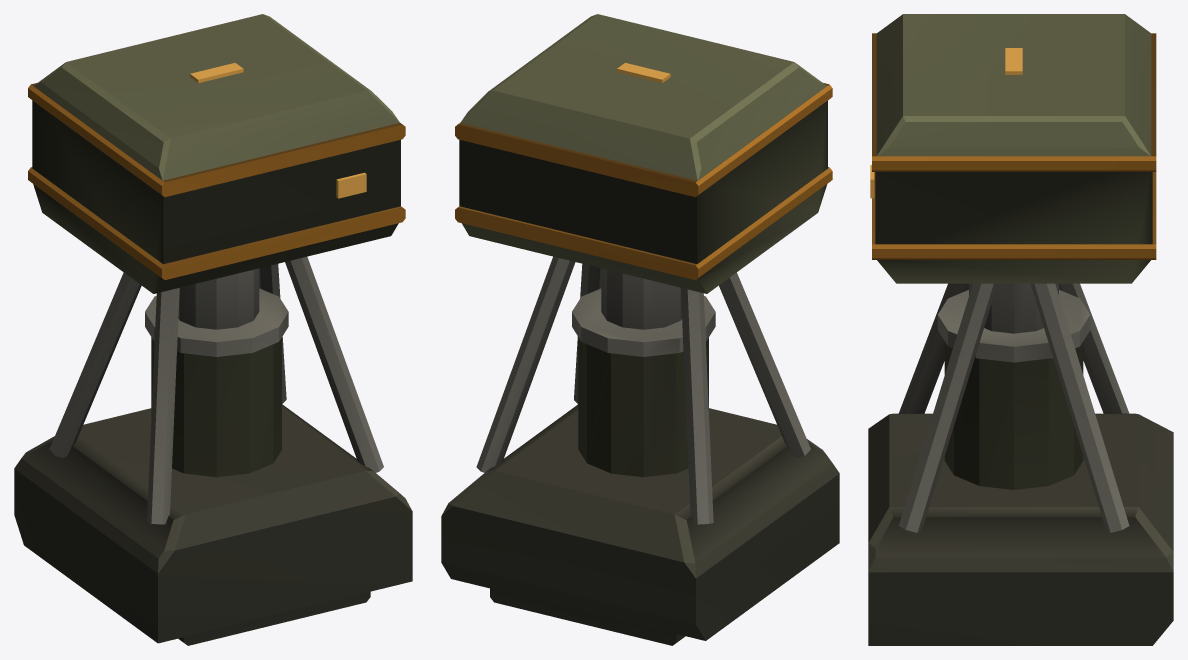
The model's file is sh-quake.glb.
The picture shows the model from 3 angles, left to right: view 1: azimuth 30°, elevation 25°; view 2: azimuth 150°, elevation 25°; view 3: azimuth 270°, elevation 25°; orthographic projection. The views are drawn at different scales.
Parts seen in each view (by area): view 1: Body, Glow; view 2: Body, Glow; view 3: Body, Glow.
Boxes of the visible parts, x1=… form: Body: x1=14, y1=14, x2=412, y2=645; Glow: x1=190, y1=63, x2=366, y2=198; Body: x1=441, y1=14, x2=839, y2=645; Glow: x1=617, y1=62, x2=670, y2=83; Body: x1=868, y1=14, x2=1173, y2=645; Glow: x1=870, y1=48, x2=1022, y2=198.
Size of the model in its own units: 0.9 by 1.72 by 0.88.
